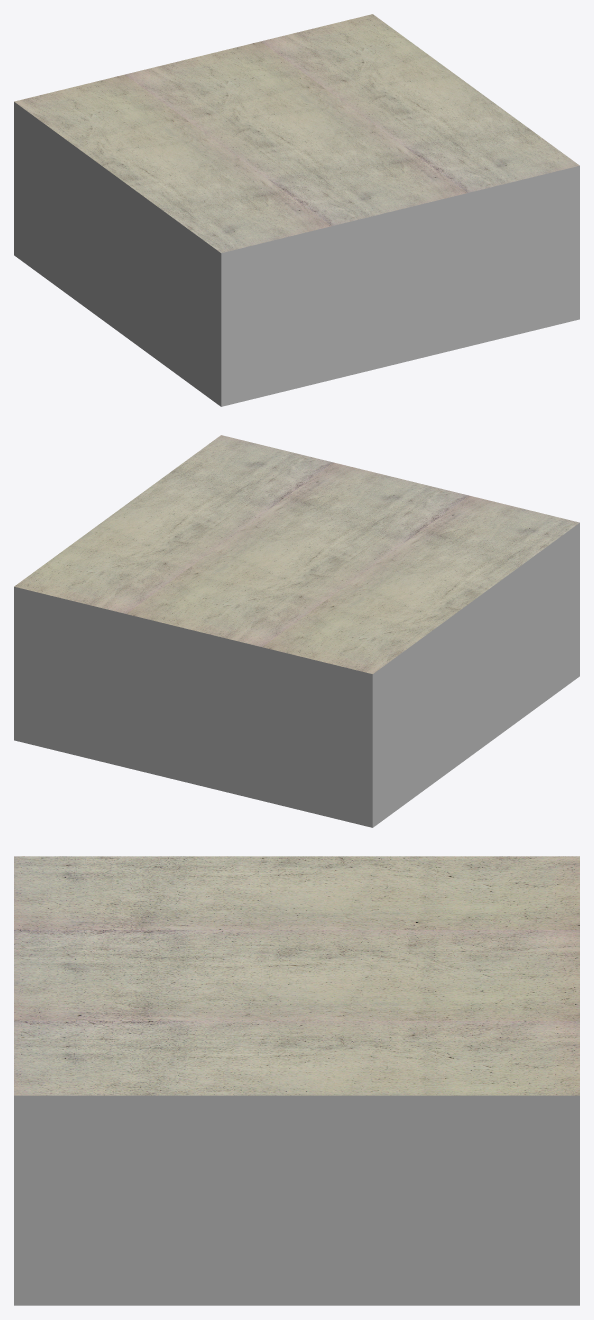
The model's file is prada.fbx.
3 views of the same model, one above another, from view 1: azimuth 30°, elevation 25°; view 2: azimuth 150°, elevation 25°; view 3: azimuth 270°, elevation 25° (orthographic). The views are drawn at different scales.
Visible parts, largest first — view 1: Cube.006; view 2: Cube.006; view 3: Cube.006.
Part boxes in pixels (bbox=[...]): Cube.006: bbox=[14, 14, 579, 406]; Cube.006: bbox=[14, 435, 579, 827]; Cube.006: bbox=[14, 856, 579, 1305].
Size of the model in its own units: 4884 by 1999 by 4884.
